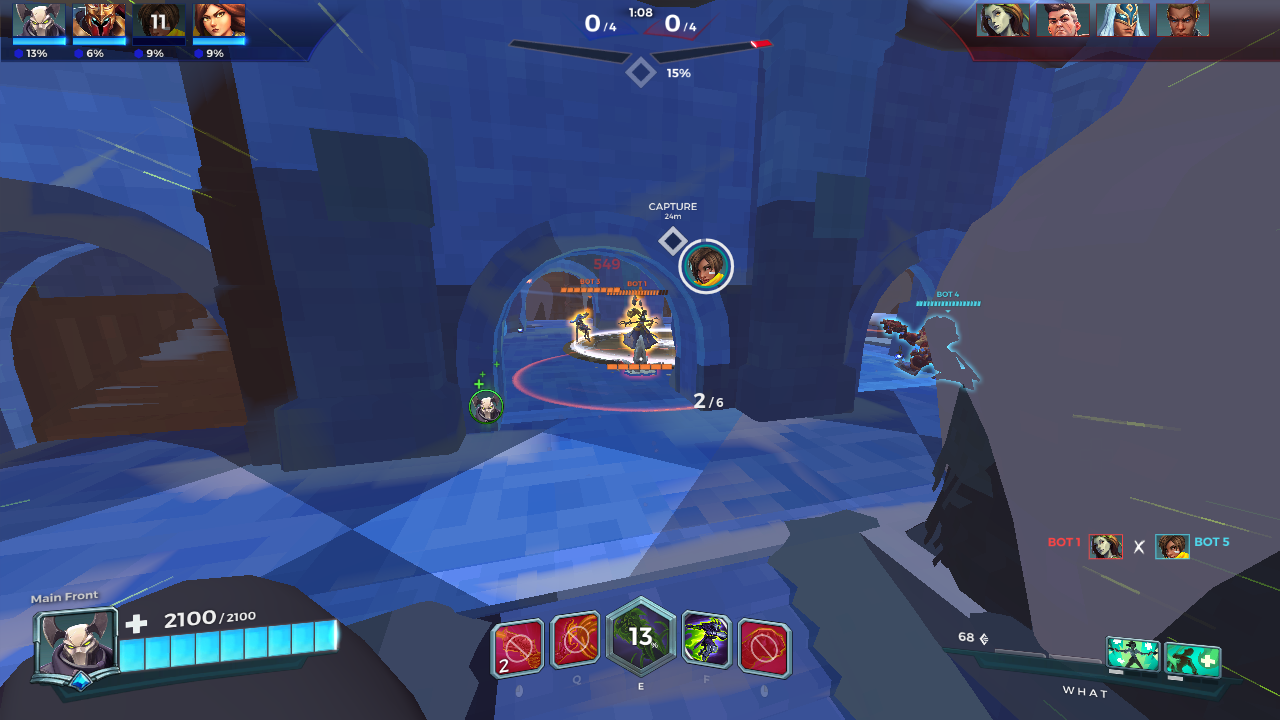model: (619, 299, 662, 356), (571, 305, 596, 348)
